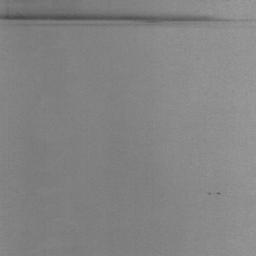Crease: (0, 13, 235, 24)
